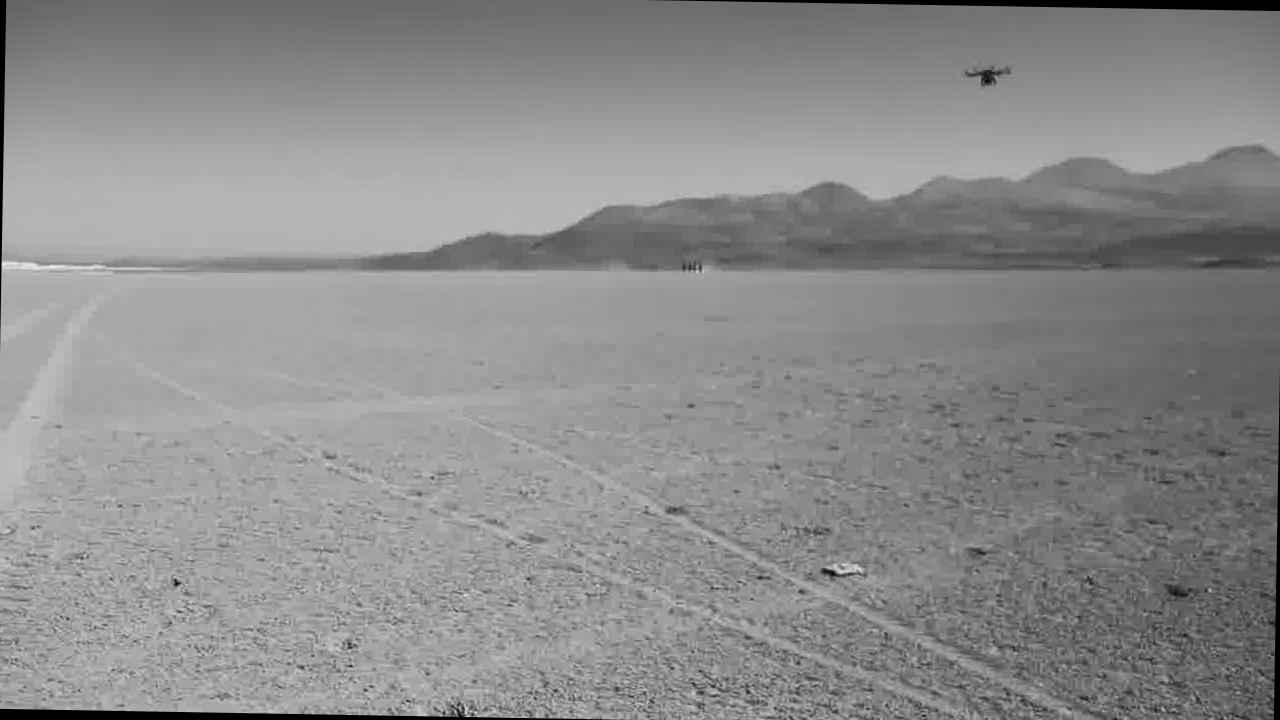drone: (958, 58, 1012, 92)
